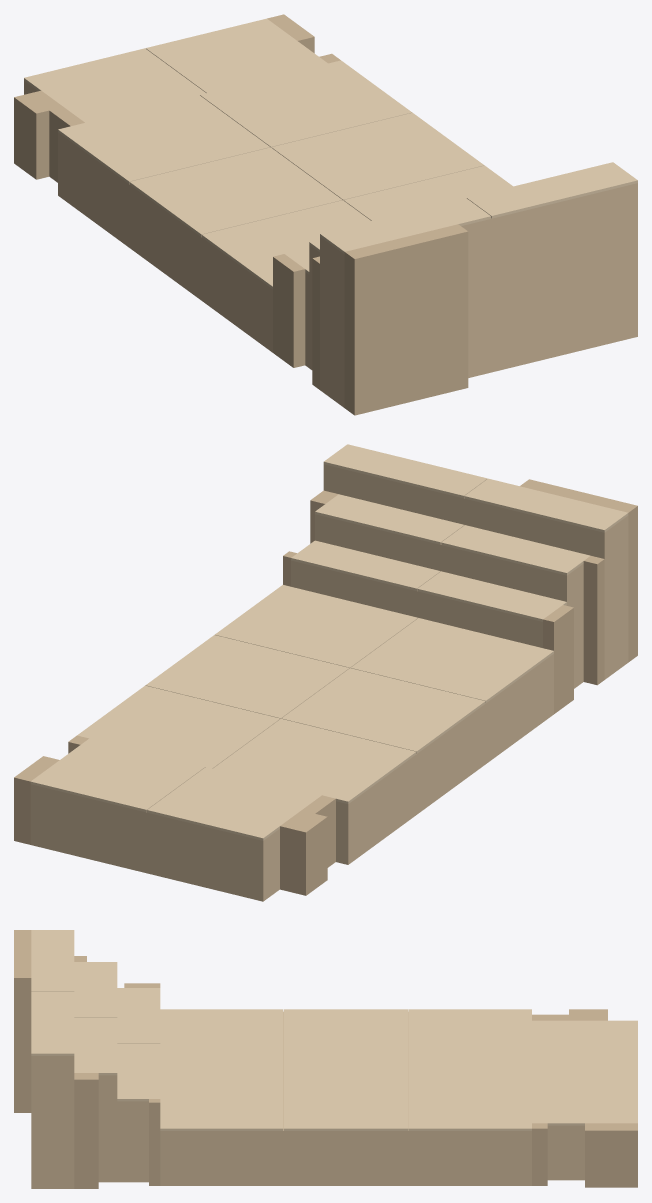
The model's file is giuong_cau_thang.fbx.
The picture shows the model from 3 angles, top to bottom: view 1: azimuth 30°, elevation 25°; view 2: azimuth 150°, elevation 25°; view 3: azimuth 270°, elevation 25°; orthographic projection. The views are drawn at different scales.
Visible parts, largest first — view 1: 01_Bac_1_204x30_cao104, 02_Bac_1_lap_79x12_cao104, 09_Giuong_chinh_197x259_cao44, 09_Giuong_chinh_nap_2, 09_Giuong_chinh_nap_3, 09_Giuong_chinh_nap_5, 09_Giuong_chinh_nap_6, 10_Dau_giuong_nap_1, 10_Dau_giuong_nap_2, 09_Giuong_chinh_nap_1, 01_Bac_1_nap_2, 09_Giuong_chinh_nap_4 (+6 smaller); view 2: 10_Dau_giuong_169x74_cao44, 09_Giuong_chinh_197x259_cao44, 01_Bac_1_204x30_cao104, 09_Giuong_chinh_nap_2, 09_Giuong_chinh_nap_1, 09_Giuong_chinh_nap_3, 09_Giuong_chinh_nap_5, 09_Giuong_chinh_nap_4, 09_Giuong_chinh_nap_6, 03_Bac_2_183x30_cao84, 10_Dau_giuong_nap_1, 10_Dau_giuong_nap_2 (+13 smaller); view 3: 09_Giuong_chinh_197x259_cao44, 09_Giuong_chinh_nap_5, 09_Giuong_chinh_nap_4, 09_Giuong_chinh_nap_6, 09_Giuong_chinh_nap_2, 09_Giuong_chinh_nap_1, 09_Giuong_chinh_nap_3, 01_Bac_1_204x30_cao104, 10_Dau_giuong_nap_2, 10_Dau_giuong_nap_1, 14_Dau_giuong_lap_oc_2_12x37_cao44, 02_Bac_1_lap_79x12_cao104 (+13 smaller).
Boxes of the visible parts, <box> form: 01_Bac_1_204x30_cao104: <box>320,183,637,407</box>; 02_Bac_1_lap_79x12_cao104: <box>344,224,468,415</box>; 09_Giuong_chinh_197x259_cao44: <box>58,132,272,352</box>; 09_Giuong_chinh_nap_2: <box>129,147,342,236</box>; 09_Giuong_chinh_nap_3: <box>58,95,270,184</box>; 09_Giuong_chinh_nap_5: <box>271,112,484,200</box>; 09_Giuong_chinh_nap_6: <box>200,60,412,147</box>; 10_Dau_giuong_nap_1: <box>24,48,205,122</box>; 10_Dau_giuong_nap_2: <box>145,18,327,92</box>; 09_Giuong_chinh_nap_1: <box>201,200,370,289</box>; 01_Bac_1_nap_2: <box>467,162,637,218</box>; 09_Giuong_chinh_nap_4: <box>343,165,512,220</box>; 10_Dau_giuong_169x74_cao44: <box>30,784,279,901</box>; 09_Giuong_chinh_197x259_cao44: <box>336,654,553,864</box>; 01_Bac_1_204x30_cao104: <box>323,464,628,679</box>; 09_Giuong_chinh_nap_2: <box>281,668,485,753</box>; 09_Giuong_chinh_nap_1: <box>351,618,553,702</box>; 09_Giuong_chinh_nap_3: <box>213,718,416,803</box>; 09_Giuong_chinh_nap_5: <box>145,635,349,718</box>; 09_Giuong_chinh_nap_4: <box>215,585,417,667</box>; 09_Giuong_chinh_nap_6: <box>77,685,280,768</box>; 03_Bac_2_183x30_cao84: <box>315,514,583,688</box>; 10_Dau_giuong_nap_1: <box>147,767,321,840</box>; 10_Dau_giuong_nap_2: <box>30,738,205,812</box>; 09_Giuong_chinh_197x259_cao44: <box>160,1011,531,1185</box>; 09_Giuong_chinh_nap_5: <box>284,1069,408,1130</box>; 09_Giuong_chinh_nap_4: <box>160,1069,283,1130</box>; 09_Giuong_chinh_nap_6: <box>408,1069,531,1130</box>; 09_Giuong_chinh_nap_2: <box>284,1009,408,1068</box>; 09_Giuong_chinh_nap_1: <box>160,1009,283,1068</box>; 09_Giuong_chinh_nap_3: <box>408,1009,531,1068</box>; 01_Bac_1_204x30_cao104: <box>31,1056,74,1188</box>; 10_Dau_giuong_nap_2: <box>532,1072,637,1125</box>; 10_Dau_giuong_nap_1: <box>532,1020,637,1071</box>; 14_Dau_giuong_lap_oc_2_12x37_cao44: <box>585,1123,637,1187</box>; 02_Bac_1_lap_79x12_cao104: <box>14,930,31,1112</box>.
Size of the model in its own units: 204 by 104 by 435.
